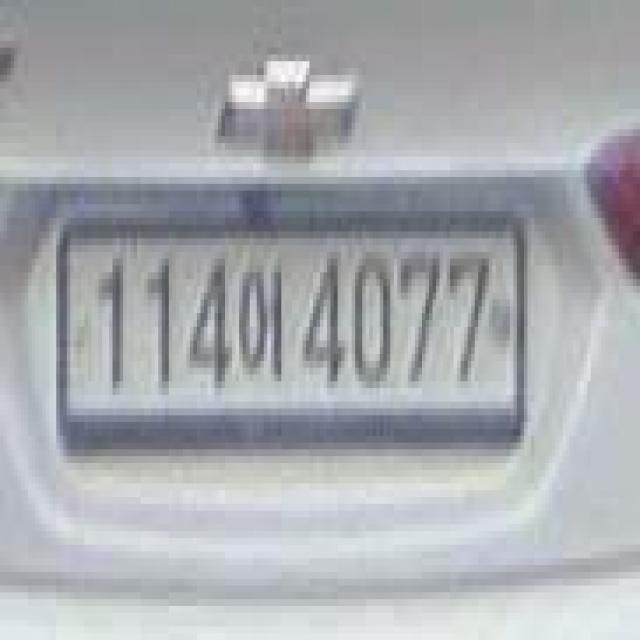illegal_plate: (57, 201, 524, 461)
